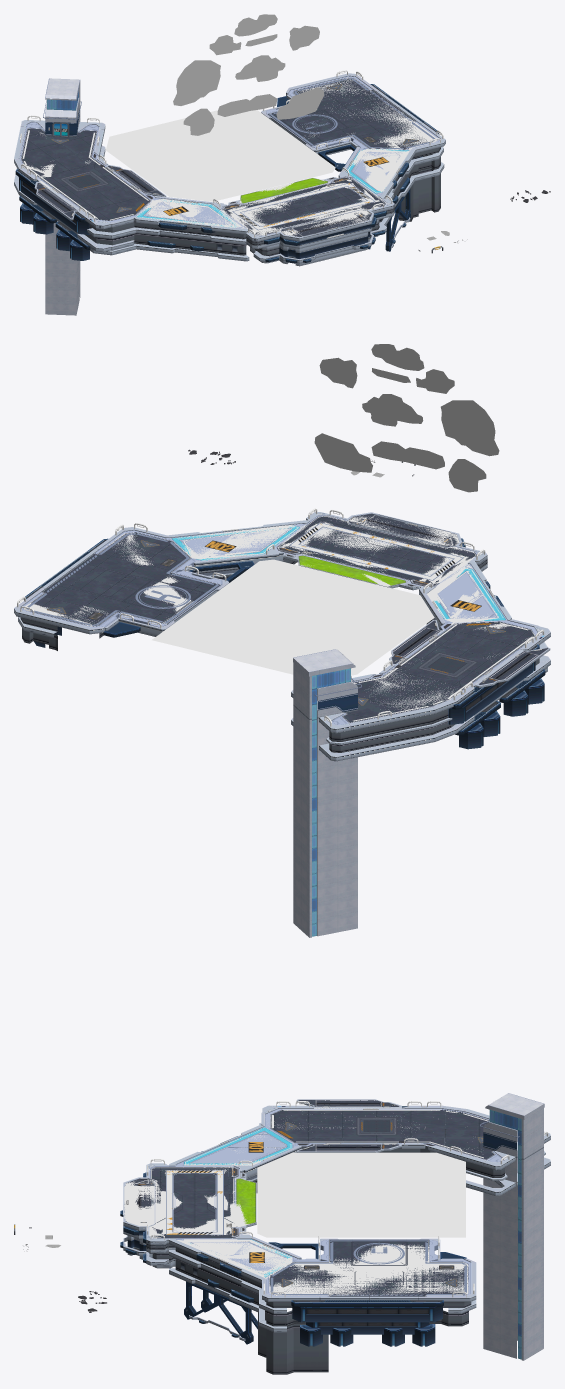
File: hod.fbx
3 renders of one model, top to bottom at view 1: azimuth 30°, elevation 25°; view 2: azimuth 150°, elevation 25°; view 3: azimuth 270°, elevation 25°, orthographic. The views are drawn at different scales.
Parts seen in each view (by area): view 1: rb_01_hod_boss_01, rb_01_hod_floor_02, rb_01_hod_floor_05, rb_01_hod_ground_01, rb_01_hod_floor_04, rb_01_hod_build_01, rb_01_hod_floor_03, rb_01_hod_backfloor_03, rb_01_hod_backfloor_02, rb_01_hod_backfloor_04, rb_01_hod_floor_06, rb_01_hod_floor_05_decal (+14 smaller); view 2: rb_01_hod_boss_01, rb_01_hod_build_01, rb_01_hod_floor_02, rb_01_hod_floor_05, rb_01_hod_ground_01, rb_01_hod_floor_04, rb_01_hod_backfloor_02, rb_01_hod_floor_06, rb_01_hod_floor_03, rb_01_hod_floor_05_decal, rb_01_hod_cloud_07, rb_01_hod_floor_02_decal (+9 smaller); view 3: rb_01_hod_boss_01, rb_01_hod_build_01, rb_01_hod_ground_01, rb_01_hod_floor_02, rb_01_hod_floor_05, rb_01_hod_floor_04, rb_01_hod_backfloor_05, rb_01_hod_ob_01, rb_01_hod_floor_06, rb_01_hod_floor_03, rb_01_hod_floor_05_decal, rb_01_hod_backfloor_03 (+7 smaller).
Boxes of the visible parts, x1=… form: rb_01_hod_boss_01: x1=106, y1=110, x2=335, y2=201; rb_01_hod_floor_02: x1=14, y1=120, x2=155, y2=234; rb_01_hod_floor_05: x1=261, y1=73, x2=445, y2=171; rb_01_hod_ground_01: x1=22, y1=77, x2=436, y2=236; rb_01_hod_floor_04: x1=221, y1=177, x2=394, y2=248; rb_01_hod_build_01: x1=43, y1=78, x2=81, y2=315; rb_01_hod_floor_03: x1=87, y1=196, x2=247, y2=245; rb_01_hod_backfloor_03: x1=89, y1=162, x2=444, y2=261; rb_01_hod_backfloor_02: x1=14, y1=145, x2=134, y2=260; rb_01_hod_backfloor_04: x1=250, y1=219, x2=386, y2=266; rb_01_hod_floor_06: x1=338, y1=146, x2=443, y2=198; rb_01_hod_floor_05_decal: x1=269, y1=77, x2=435, y2=149; rb_01_hod_boss_01: x1=152, y1=559, x2=434, y2=675; rb_01_hod_build_01: x1=293, y1=649, x2=361, y2=937; rb_01_hod_floor_02: x1=291, y1=619, x2=550, y2=744; rb_01_hod_floor_05: x1=14, y1=527, x2=254, y2=637; rb_01_hod_ground_01: x1=24, y1=515, x2=535, y2=711; rb_01_hod_floor_04: x1=275, y1=512, x2=487, y2=590; rb_01_hod_backfloor_02: x1=291, y1=655, x2=550, y2=761; rb_01_hod_floor_06: x1=168, y1=520, x2=309, y2=573; rb_01_hod_floor_03: x1=419, y1=560, x2=547, y2=648; rb_01_hod_floor_05_decal: x1=25, y1=532, x2=220, y2=626; rb_01_hod_cloud_07: x1=440, y1=400, x2=499, y2=456; rb_01_hod_floor_02_decal: x1=343, y1=622, x2=544, y2=722; rb_01_hod_boss_01: x1=257, y1=1152, x2=465, y2=1237; rb_01_hod_build_01: x1=480, y1=1093, x2=544, y2=1360; rb_01_hod_ground_01: x1=124, y1=1107, x2=489, y2=1295; rb_01_hod_floor_02: x1=261, y1=1105, x2=550, y2=1180; rb_01_hod_floor_05: x1=261, y1=1238, x2=476, y2=1307; rb_01_hod_floor_04: x1=123, y1=1163, x2=256, y2=1253; rb_01_hod_backfloor_05: x1=258, y1=1301, x2=468, y2=1374; rb_01_hod_ob_01: x1=291, y1=1300, x2=476, y2=1322; rb_01_hod_floor_06: x1=169, y1=1233, x2=301, y2=1313; rb_01_hod_floor_03: x1=169, y1=1123, x2=301, y2=1179; rb_01_hod_floor_05_decal: x1=269, y1=1240, x2=467, y2=1296; rb_01_hod_backfloor_03: x1=169, y1=1175, x2=286, y2=1332.
Size of the model in its own units: 54.82 by 49.42 by 58.29.
5 materials, 2 textured.
